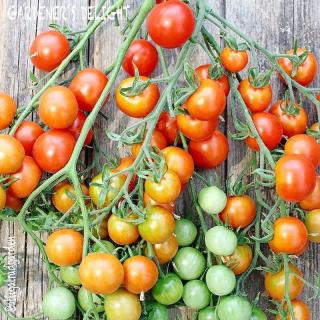Tomat: (147, 1, 197, 50), (276, 155, 318, 204), (79, 253, 125, 296), (116, 76, 161, 119), (69, 68, 111, 113), (30, 31, 72, 73), (186, 79, 227, 122), (39, 86, 79, 130), (276, 48, 319, 88), (46, 229, 85, 268), (123, 39, 160, 78), (273, 217, 309, 255), (221, 47, 250, 74)
